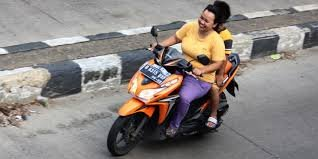motor: (104, 41, 242, 155)
